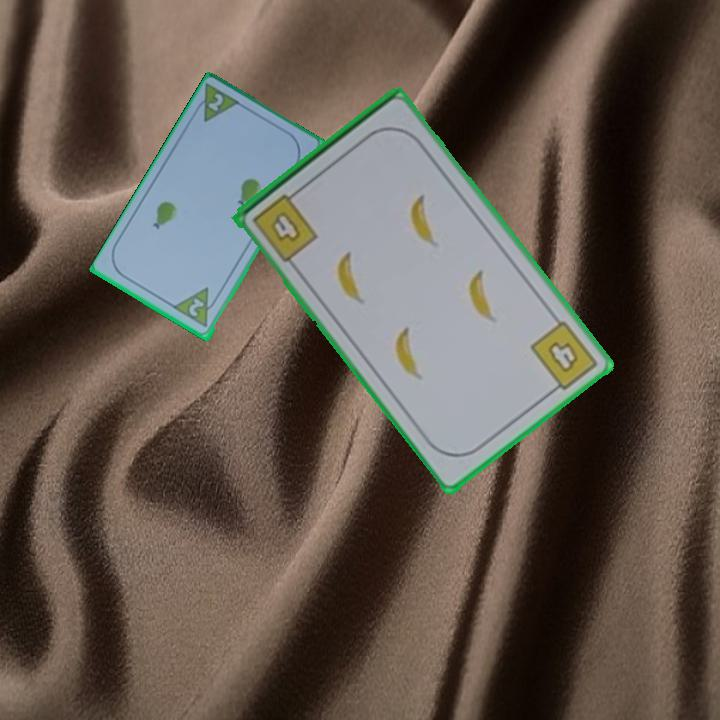2p: (185, 295, 207, 320), (204, 90, 226, 115)
4b: (526, 317, 601, 398), (248, 186, 321, 265)
